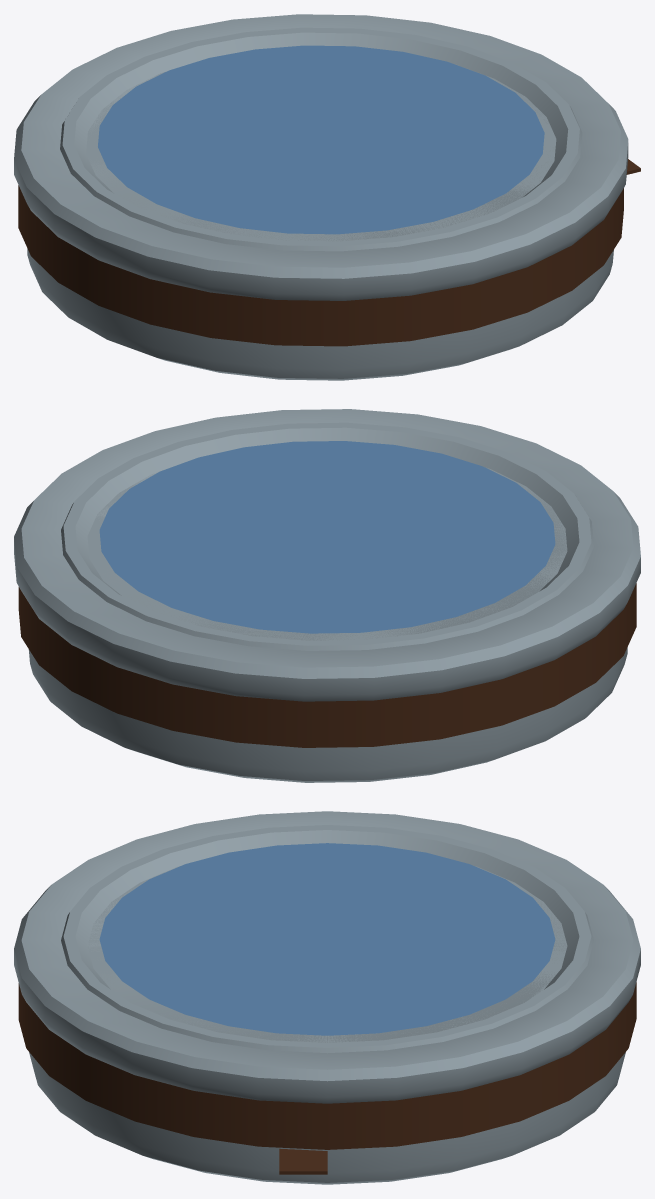
The model's file is film_can_2.glb.
3 renders of one model, top to bottom at view 1: azimuth 30°, elevation 25°; view 2: azimuth 150°, elevation 25°; view 3: azimuth 270°, elevation 25°, orthographic. The views are drawn at different scales.
Visible parts, largest first — view 1: film_can_2; view 2: film_can_2; view 3: film_can_2.
Part boxes in pixels (x1,y1,x2,y2): film_can_2: (14,14,640,380); film_can_2: (14,409,640,782); film_can_2: (14,811,640,1184).
Size of the model in its own units: 0.2205 by 0.0475 by 0.209.
